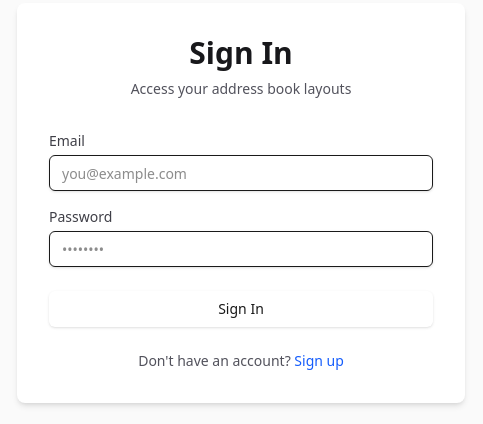
it: LoginPage › should show loading state during login
Type "test@example.com" into the field labelled "Email" at (241,173), box [49, 155, 433, 191]
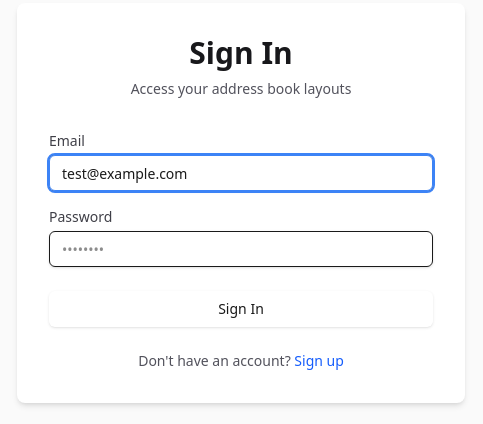
Type "password123" into the password field labelled "Password" at (241,249), box [49, 231, 433, 267]
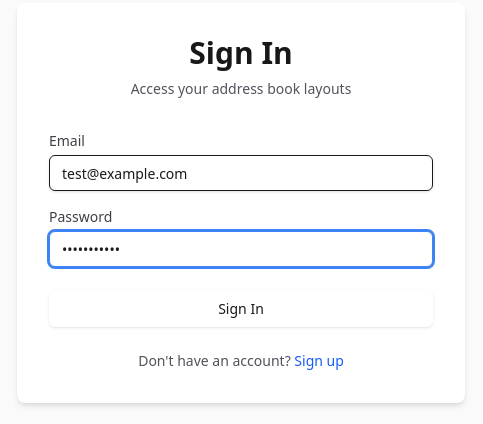
Click the button with aria-label "sign in to your account" at (241,309), box [49, 291, 433, 327]
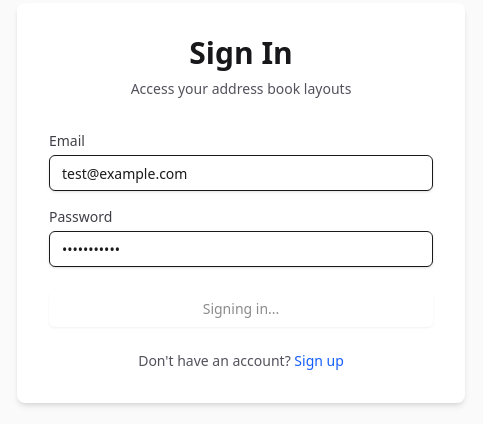
expect the button "Signing in..." is disabled: met, box [49, 291, 433, 327]
